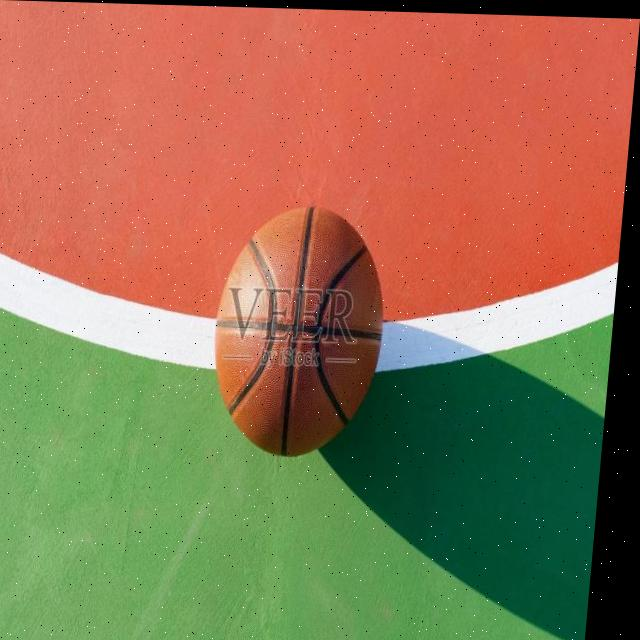Basketball: (200, 202, 392, 460)
